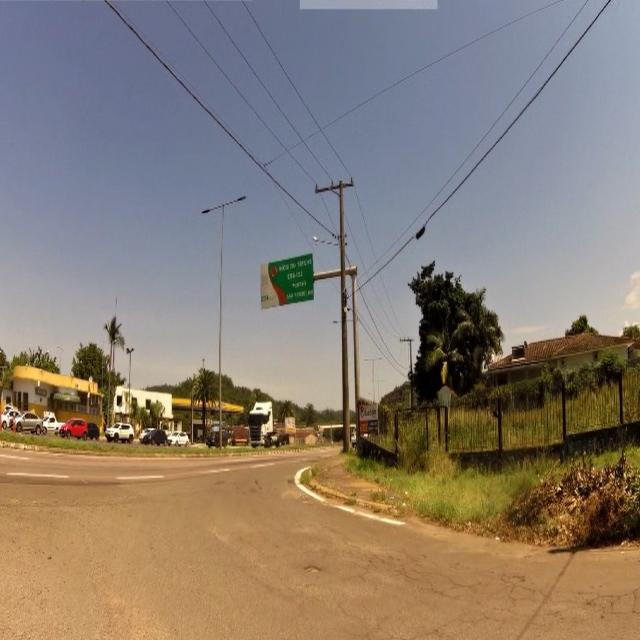I-4: (260, 264, 312, 302)
